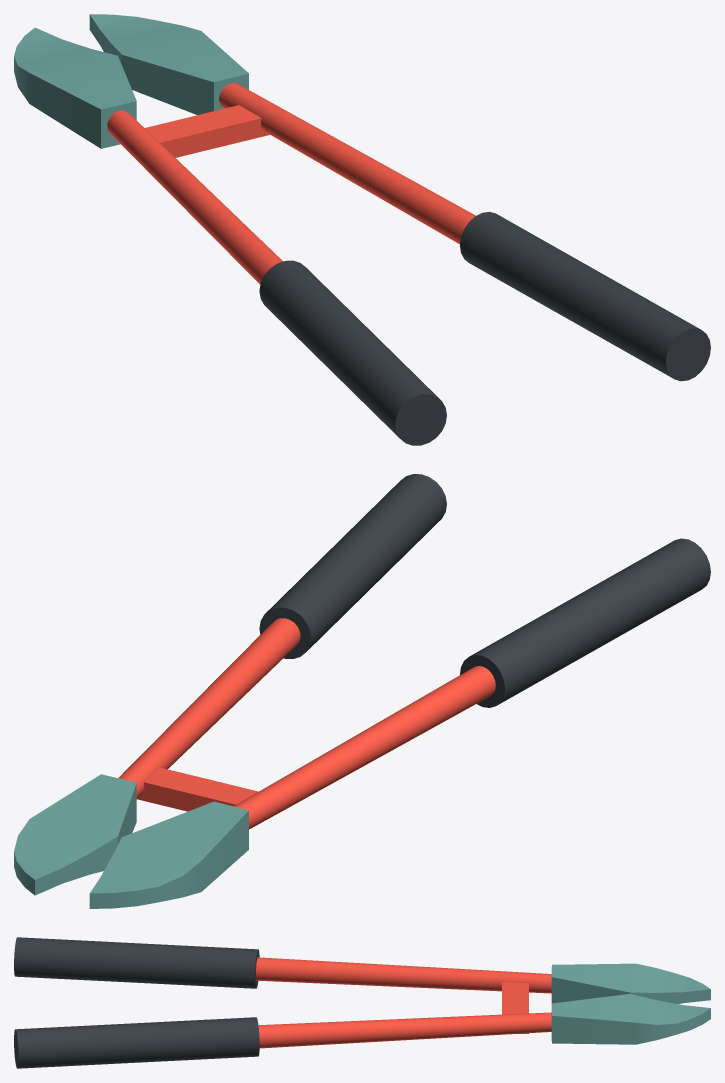
File: Bolt cutter.fbx
The picture shows the model from 3 angles, top to bottom: view 1: azimuth 30°, elevation 25°; view 2: azimuth 150°, elevation 25°; view 3: azimuth 270°, elevation 25°; orthographic projection. The views are drawn at different scales.
Visible parts, largest first — view 1: Bolt cutter; view 2: Bolt cutter; view 3: Bolt cutter.
Boxes of the visible parts, <box> form: Bolt cutter: <box>14,14,710,445</box>; Bolt cutter: <box>14,474,710,908</box>; Bolt cutter: <box>14,937,710,1068</box>.
Size of the model in its own units: 0.4669 by 0.0722 by 1.27.
